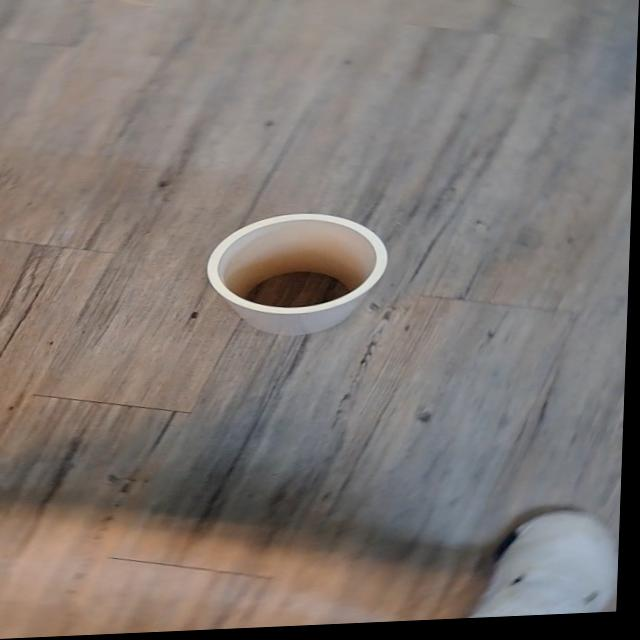CORAL: (171, 185, 430, 350)
